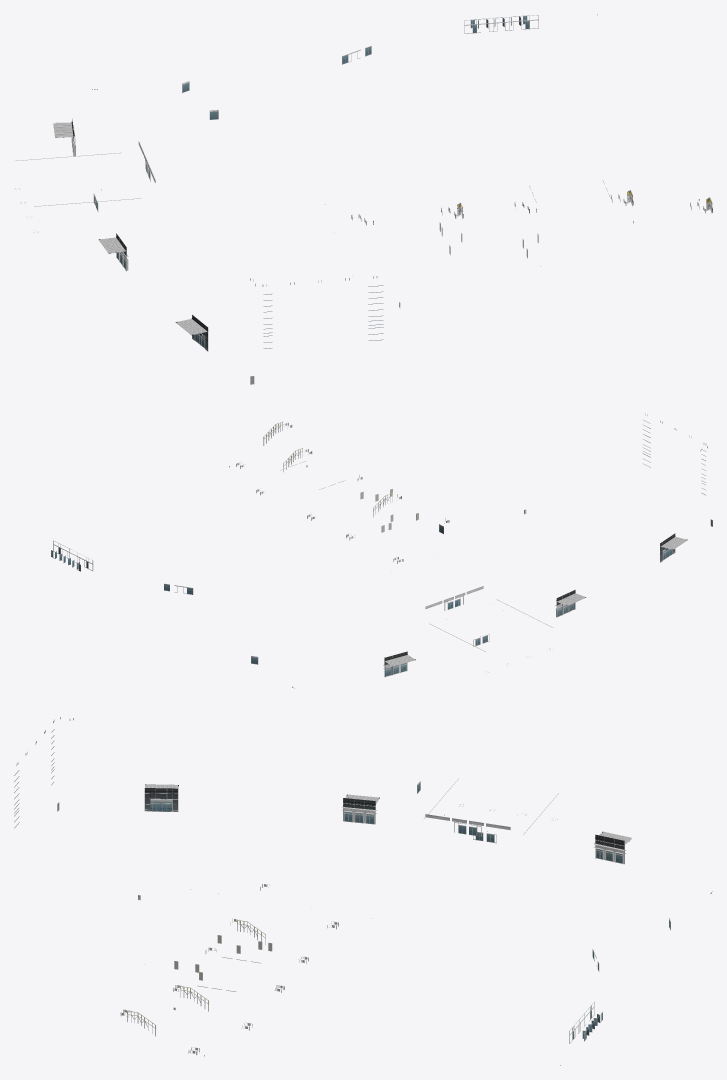
The model's file is station-operable-candidates.fbx.
3 renders of one model, top to bottom at view 1: azimuth 30°, elevation 25°; view 2: azimuth 150°, elevation 25°; view 3: azimuth 270°, elevation 25°, orthographic. The views are drawn at different scales.
Bounding box in the file's own units: 162 × 25.4 × 164.
41 materials, 16 textured.
